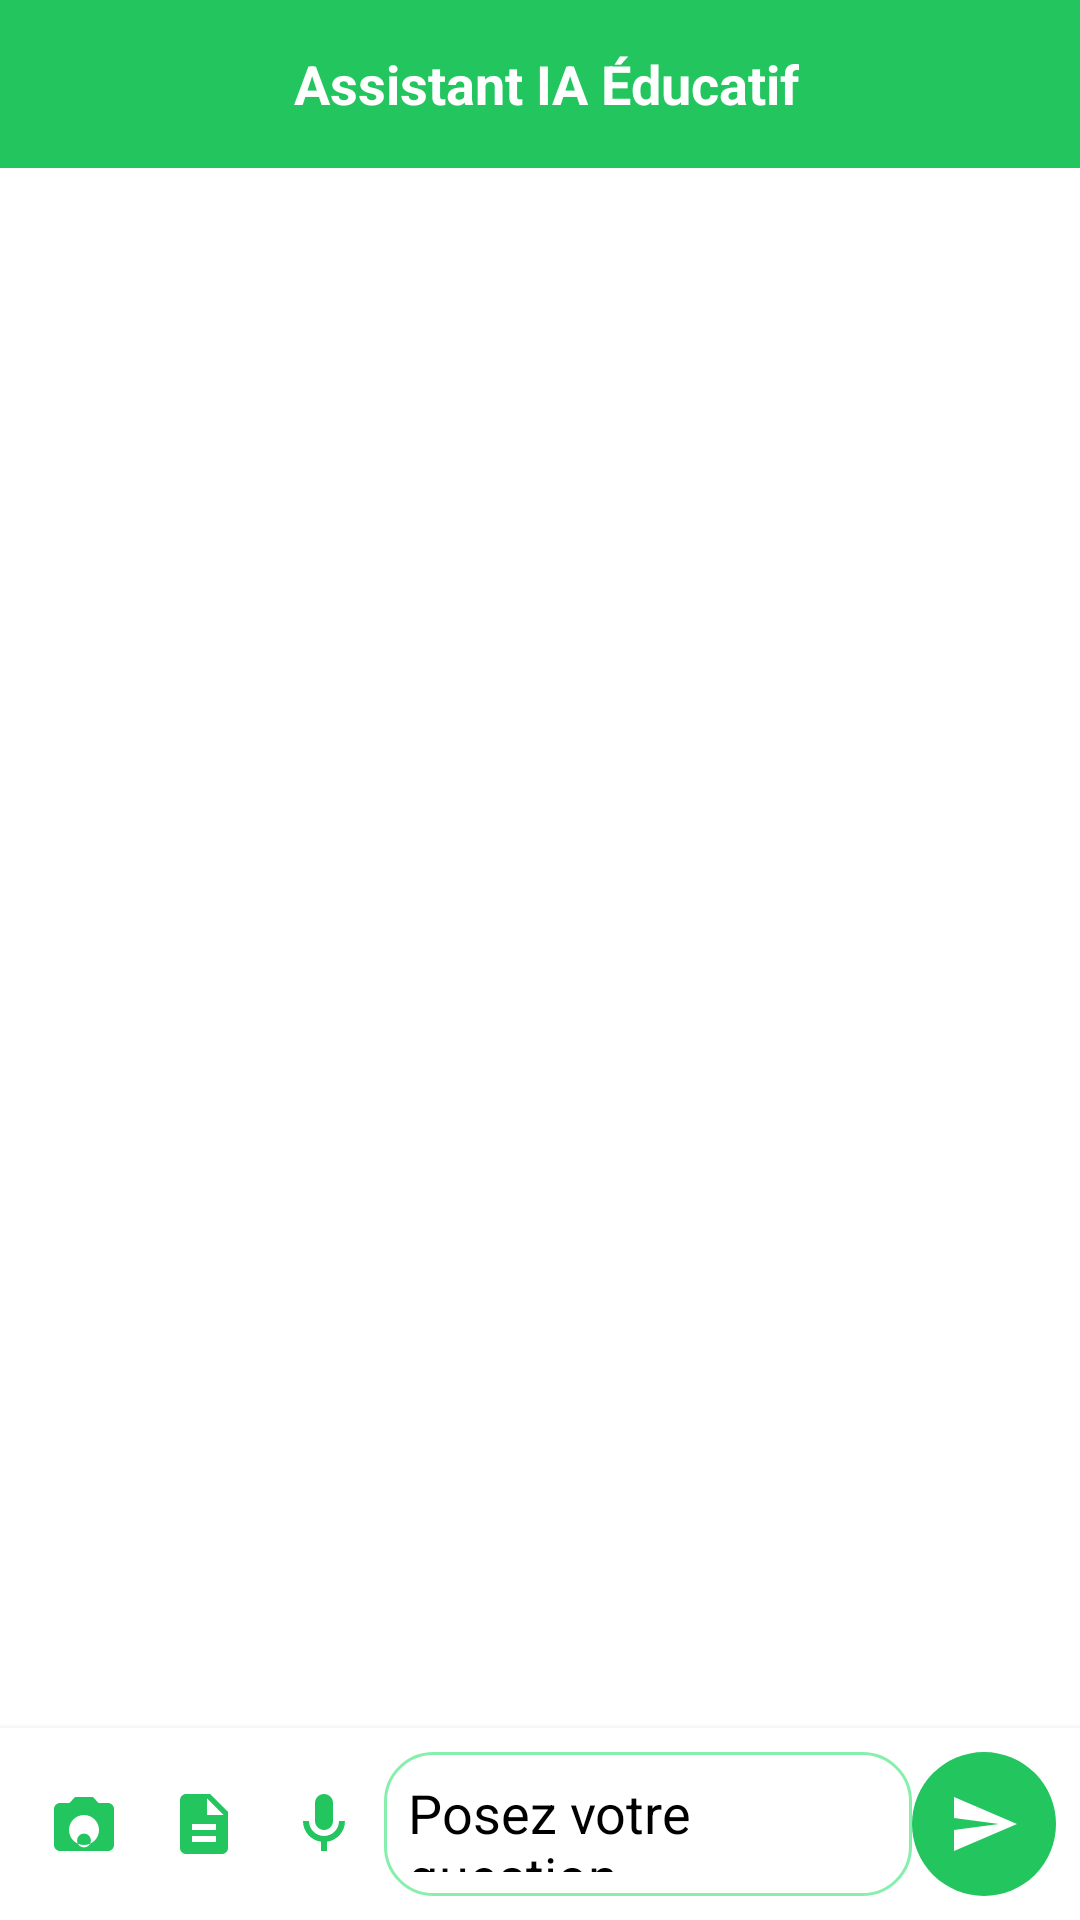

Where to tap for icons on this 1080 × 1920 app screen, as [x,y]:
documents: [204,1824]
mic: [324,1822]
photo camera: [84,1824]
send: [984,1824]
